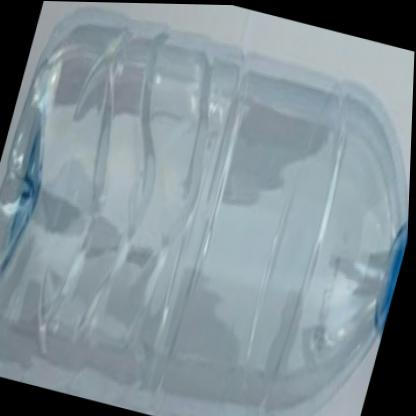bottle cap: (233, 31, 416, 416)
